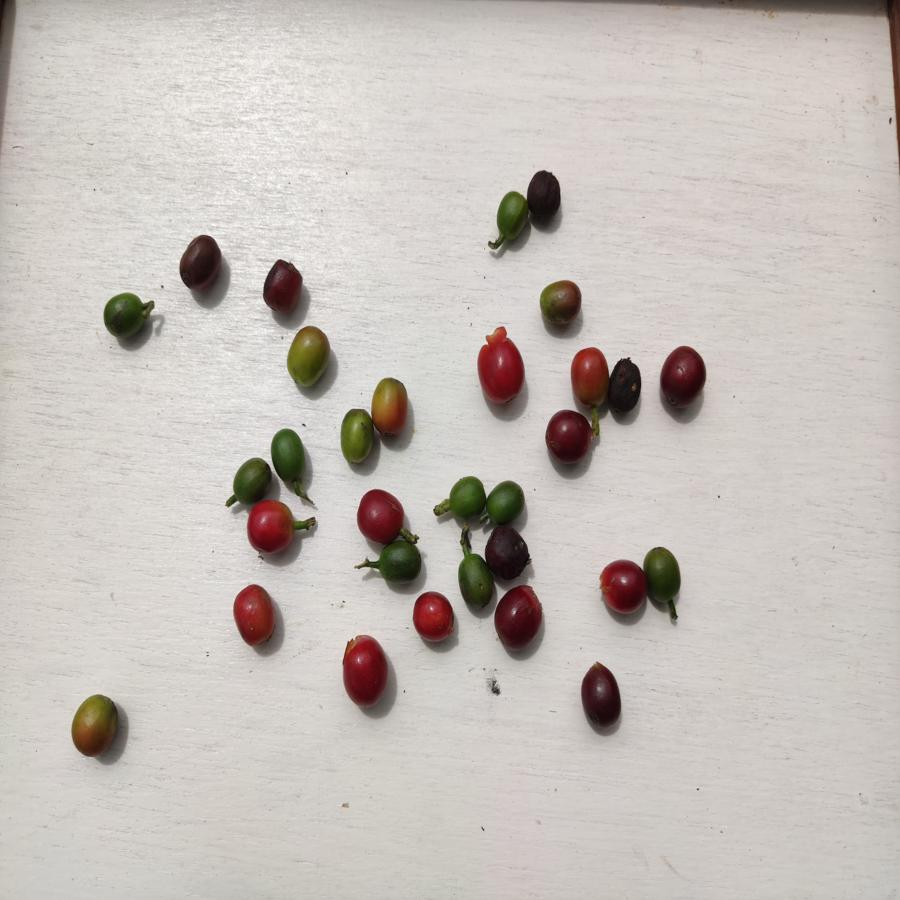Inmaduro: (450, 546, 491, 607), (268, 428, 311, 484), (647, 546, 682, 608), (438, 474, 486, 519), (104, 292, 151, 337), (478, 482, 529, 523), (226, 456, 273, 499), (492, 191, 525, 241)
Maduro: (472, 331, 526, 412), (339, 635, 395, 709), (229, 583, 280, 648), (598, 557, 650, 619), (244, 501, 298, 556), (357, 490, 410, 543), (568, 344, 608, 398), (412, 593, 456, 640)
Pinton: (67, 693, 125, 760), (281, 325, 332, 388), (368, 379, 418, 437), (335, 407, 377, 469), (534, 280, 586, 328)
Sobremaduro: (493, 586, 549, 655), (581, 660, 624, 732), (660, 346, 706, 410), (173, 235, 225, 290), (260, 257, 311, 313), (485, 527, 530, 577), (526, 166, 562, 226), (611, 355, 643, 416)
